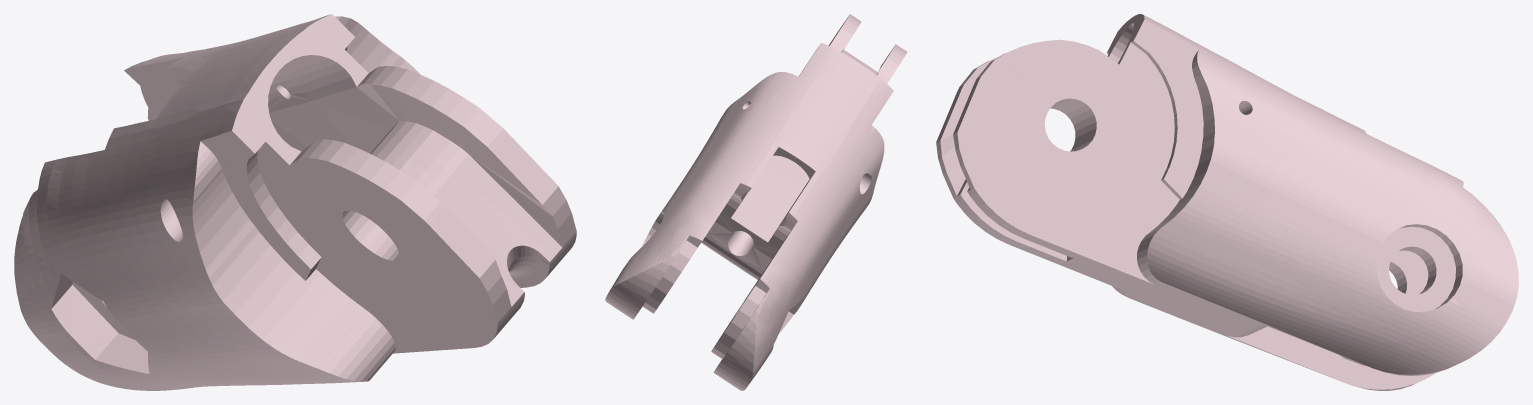
File: i02_rightHand_majeureMid_visual.obj.full.glb
The picture shows the model from 3 angles, left to right: view 1: azimuth 30°, elevation 25°; view 2: azimuth 150°, elevation 25°; view 3: azimuth 270°, elevation 25°; orthographic projection. The views are drawn at different scales.
Bounding box in the file's own units: 0.1774 × 0.2775 × 0.393.
